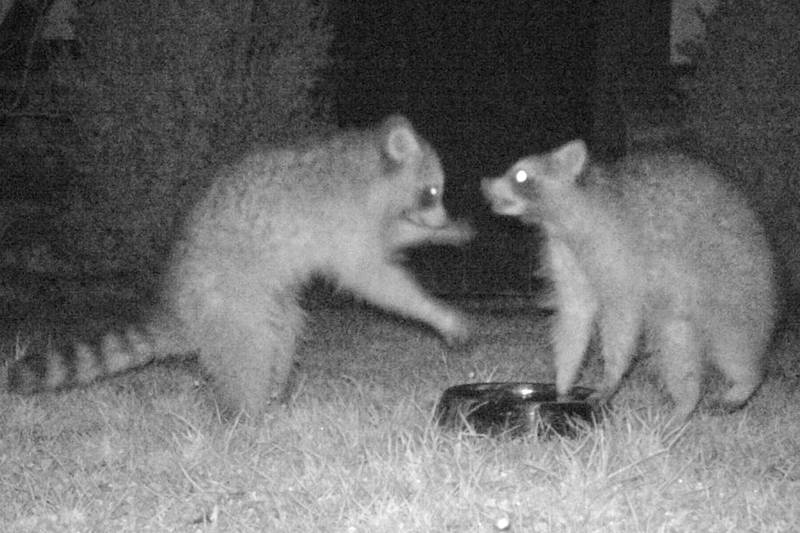raccoon: (9, 77, 502, 414), (478, 138, 786, 415)
